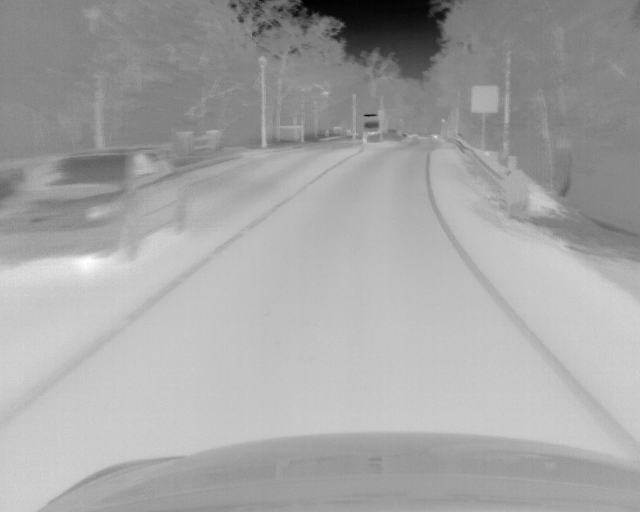car: (4, 144, 190, 266)
